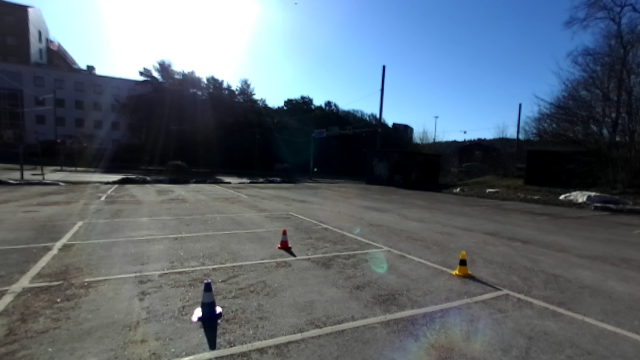blue: (191, 281, 224, 321)
orange: (276, 229, 291, 249)
yellow: (452, 251, 473, 276)
